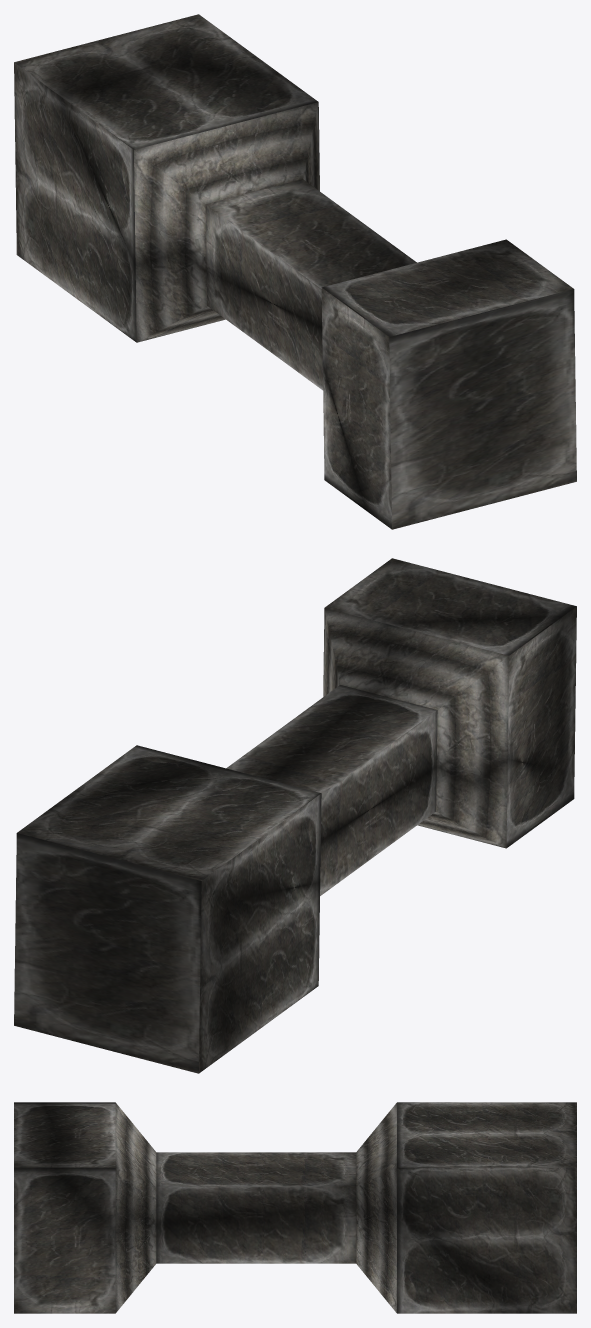
The model's file is column-B_07.obj.
3 views of the same model, one above another, from view 1: azimuth 30°, elevation 25°; view 2: azimuth 150°, elevation 25°; view 3: azimuth 270°, elevation 25° (orthographic). The views are drawn at different scales.
Parts seen in each view (by area): view 1: (null); view 2: (null); view 3: (null).
Boxes of the visible parts, x1,y1,x2,y2 form: (null): (14,14,576,529); (null): (14,558,576,1073); (null): (14,1102,576,1313).
Size of the model in its own units: 1.26 by 1.26 by 4.38.
